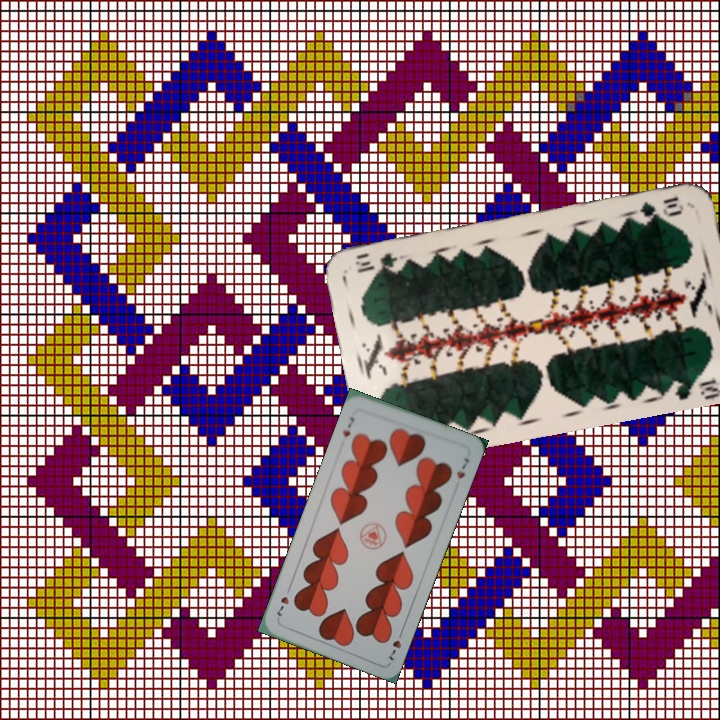G10: (636, 193, 687, 221)
H7: (385, 625, 406, 663), (339, 413, 357, 439)
